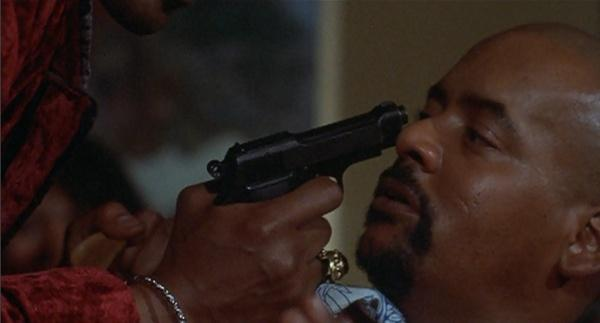Gun: (208, 100, 409, 211)
